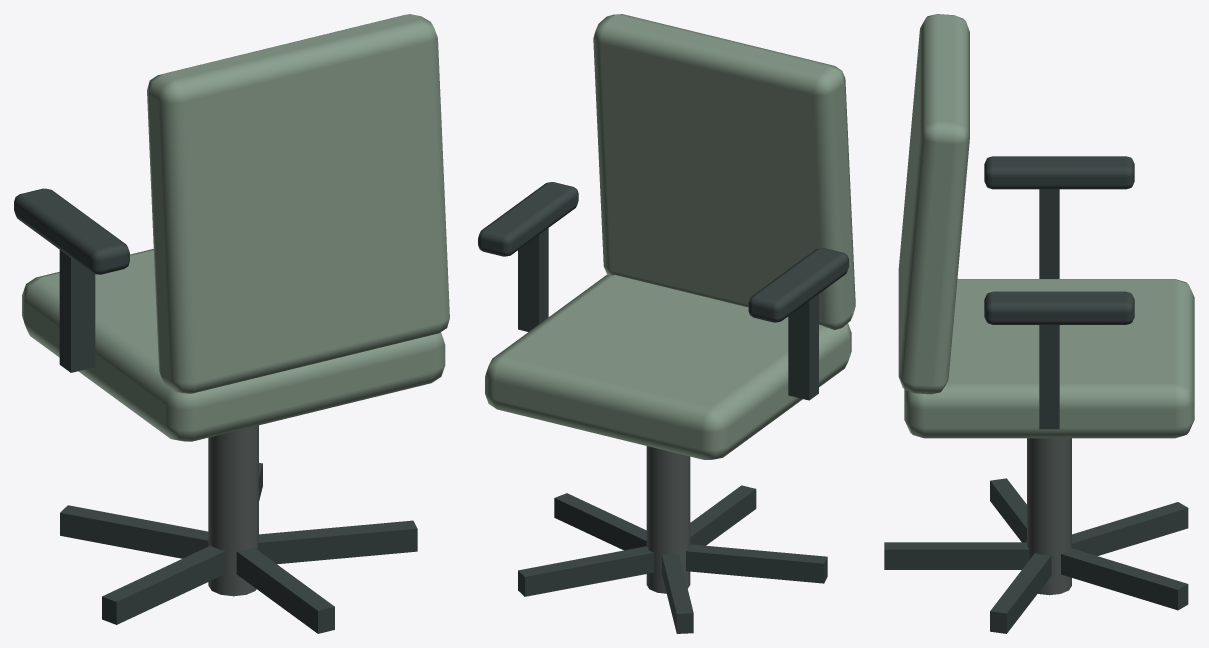
The model's file is office-chair.glb.
The picture shows the model from 3 angles, left to right: view 1: azimuth 30°, elevation 25°; view 2: azimuth 150°, elevation 25°; view 3: azimuth 270°, elevation 25°; orthographic projection. The views are drawn at different scales.
Bounding box in the file's own units: 0.72 × 1.14 × 0.62.
